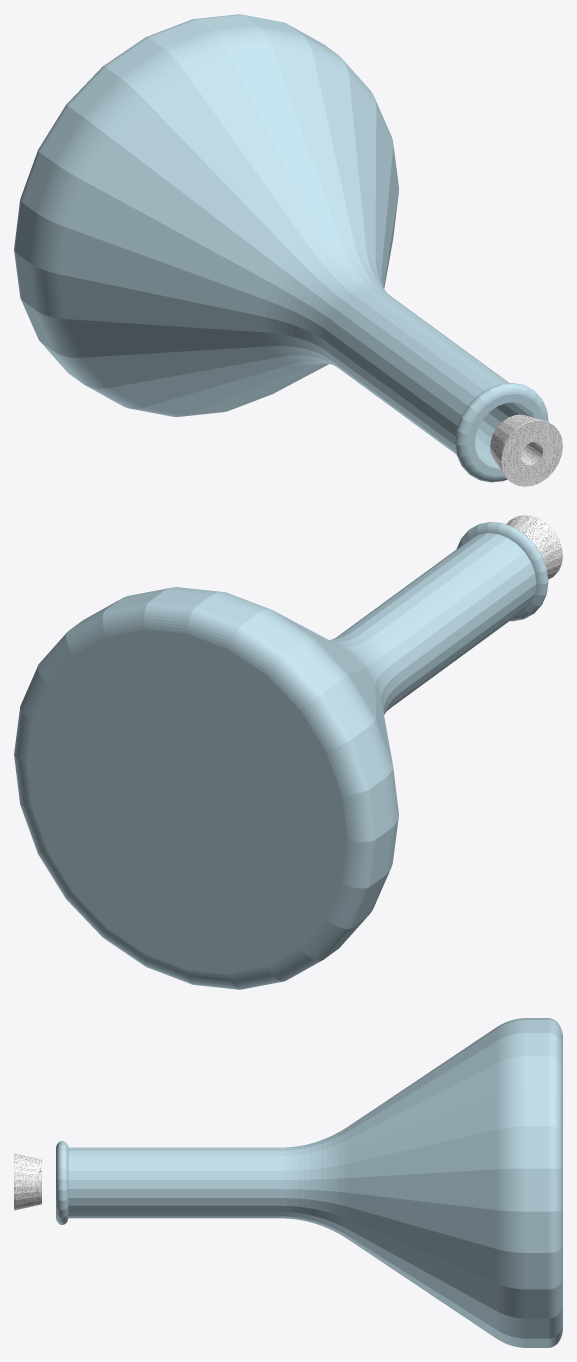
The picture shows the model from 3 angles, top to bottom: view 1: azimuth 30°, elevation 25°; view 2: azimuth 150°, elevation 25°; view 3: azimuth 270°, elevation 25°; orthographic projection. The views are drawn at different scales.
Parts seen in each view (by area): view 1: erlenmeyer flask and stopper; view 2: erlenmeyer flask and stopper; view 3: erlenmeyer flask and stopper.
Boxes of the visible parts, <box> form: erlenmeyer flask and stopper: <box>14,14,562,486</box>; erlenmeyer flask and stopper: <box>14,515,562,989</box>; erlenmeyer flask and stopper: <box>14,1018,562,1347</box>.
Bounding box in the file's own units: 246 × 246 × 408.
